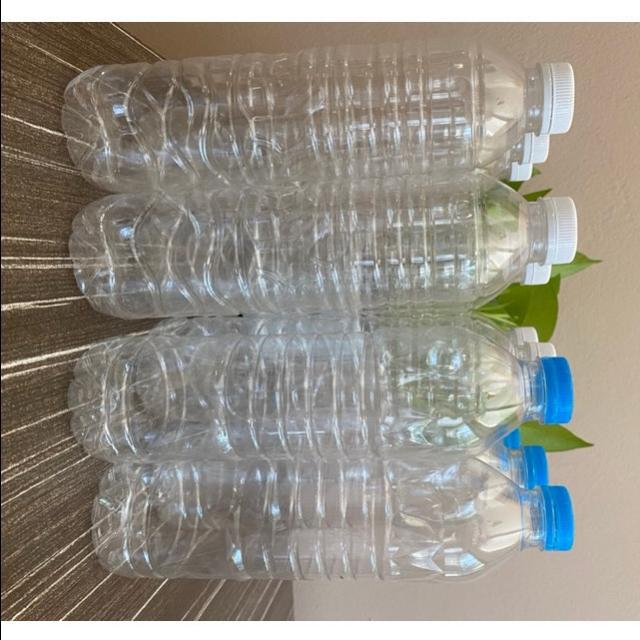PET Bottle: (24, 30, 592, 181), (58, 460, 605, 612), (44, 170, 580, 308), (58, 314, 581, 452)
